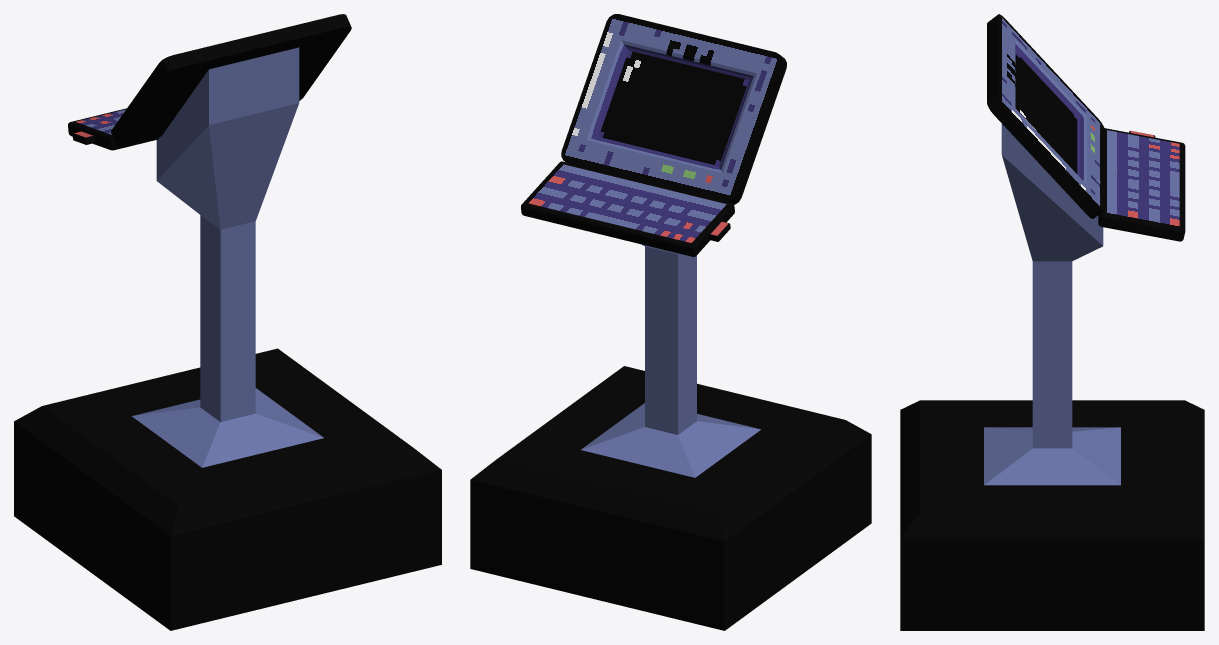
Rendered from Terminal.glb.
3 renders of one model, left to right at view 1: azimuth 30°, elevation 25°; view 2: azimuth 150°, elevation 25°; view 3: azimuth 270°, elevation 25°, orthographic. The views are drawn at different scales.
Visible parts, largest first — view 1: Terminal; view 2: Terminal; view 3: Terminal.
Part boxes in pixels (x1,y1,x2,y2): Terminal: (14,14,441,630); Terminal: (470,14,871,630); Terminal: (900,14,1204,630).
Size of the model in its own units: 1 by 1.85 by 1.
Materials: 1 (1 with a texture image).
